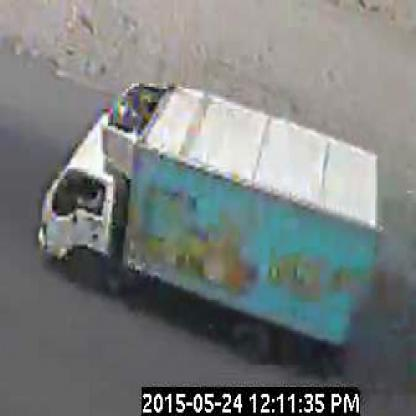truck: (40, 90, 378, 368)
